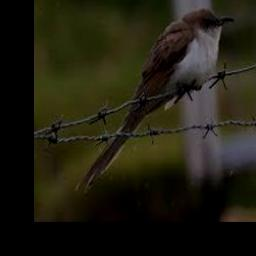Cuckoo: (74, 8, 235, 191)
